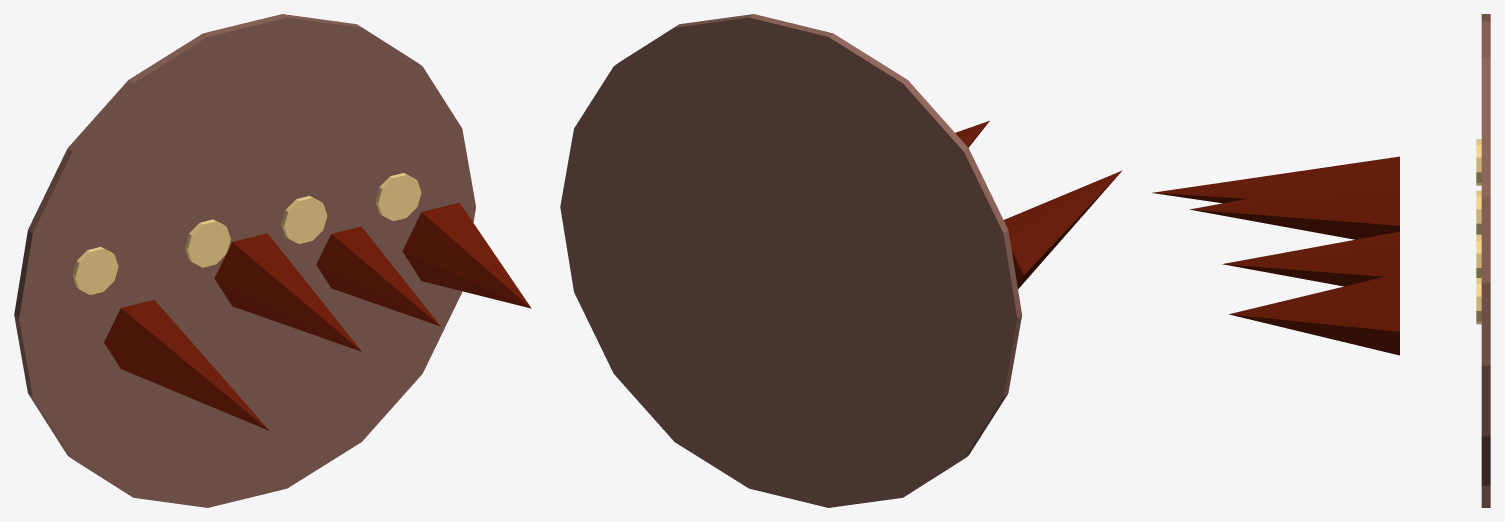
Rendered from 02_display_prop_cluster.glb.
The picture shows the model from 3 angles, left to right: view 1: azimuth 30°, elevation 25°; view 2: azimuth 150°, elevation 25°; view 3: azimuth 270°, elevation 25°; orthographic projection. The views are drawn at different scales.
Visible parts, largest first — view 1: scatter_base, basalt_shard_0, basalt_shard_1, basalt_shard_3, basalt_shard_2, lava_glow_0, lava_glow_2, lava_glow_3, lava_glow_1; view 2: scatter_base, basalt_shard_0; view 3: basalt_shard_1, basalt_shard_3, basalt_shard_2, scatter_base, basalt_shard_0.
Boxes of the visible parts, x1=… form: scatter_base: x1=14, y1=14, x2=475, y2=507; basalt_shard_0: x1=104, y1=299, x2=269, y2=430; basalt_shard_1: x1=214, y1=233, x2=361, y2=351; basalt_shard_3: x1=402, y1=202, x2=531, y2=308; basalt_shard_2: x1=316, y1=226, x2=440, y2=326; lava_glow_0: x1=72, y1=247, x2=118, y2=294; lava_glow_2: x1=281, y1=196, x2=327, y2=243; lava_glow_3: x1=375, y1=173, x2=421, y2=221; lava_glow_1: x1=185, y1=219, x2=230, y2=267; scatter_base: x1=560, y1=14, x2=1021, y2=507; basalt_shard_0: x1=1004, y1=170, x2=1122, y2=288; basalt_shard_1: x1=1189, y1=171, x2=1399, y2=239; basalt_shard_3: x1=1229, y1=273, x2=1399, y2=355; basalt_shard_2: x1=1222, y1=231, x2=1399, y2=286; scatter_base: x1=1481, y1=14, x2=1490, y2=507; basalt_shard_0: x1=1152, y1=156, x2=1399, y2=203.
Size of the model in its own units: 1.9 by 1.87 by 1.3.
